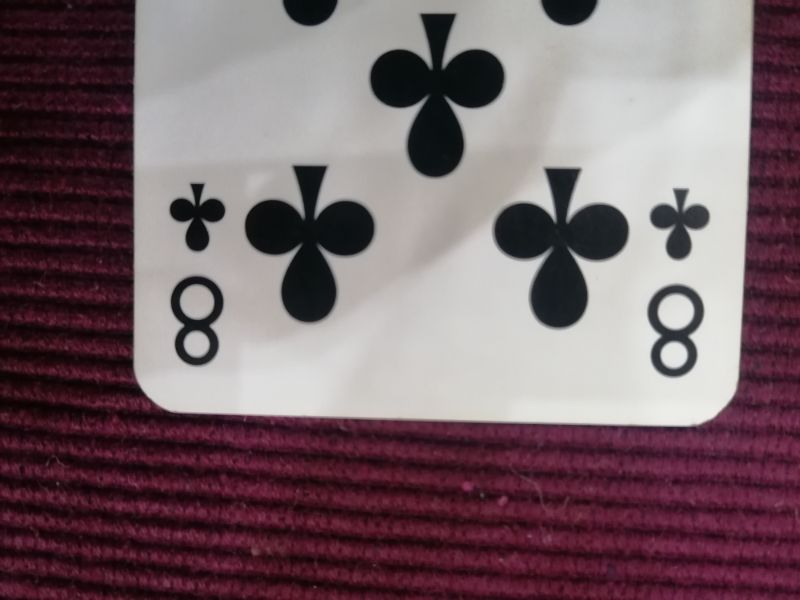8c: (645, 181, 713, 385), (162, 179, 230, 374)
